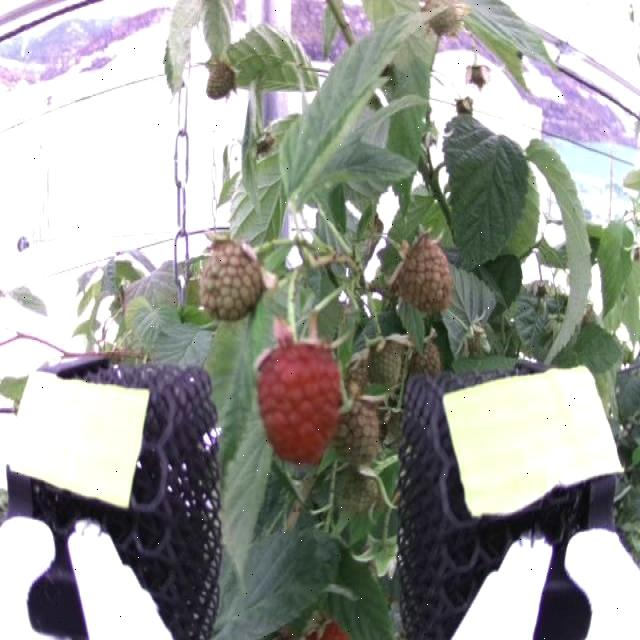Riped berries: (255, 332, 345, 470)
